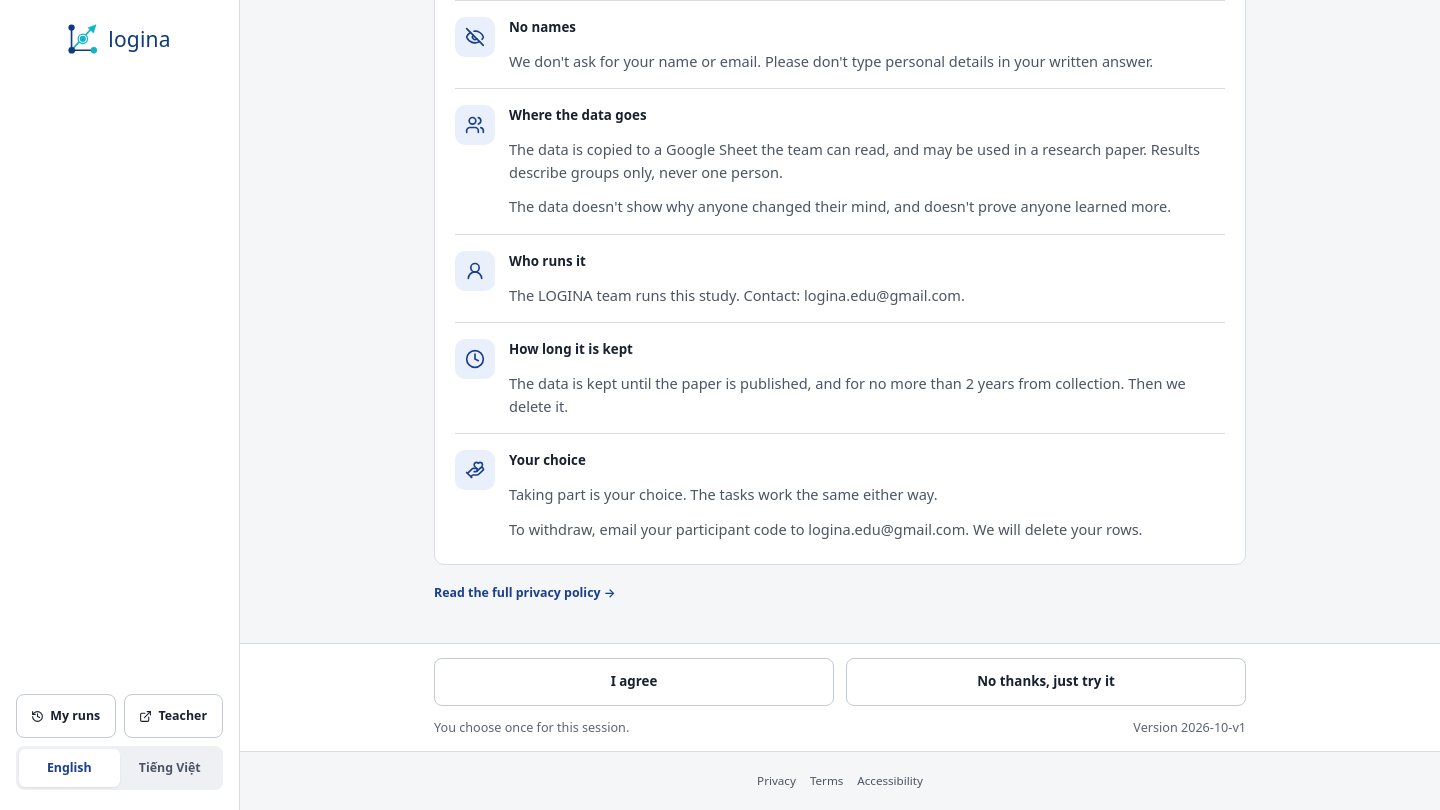
Test case: consent › agree sends the current version and shows the participant code
(page scrolled)
Step 1. Click the button "I agree" → (634, 682), box [434,658,834,706]
(page scrolled)
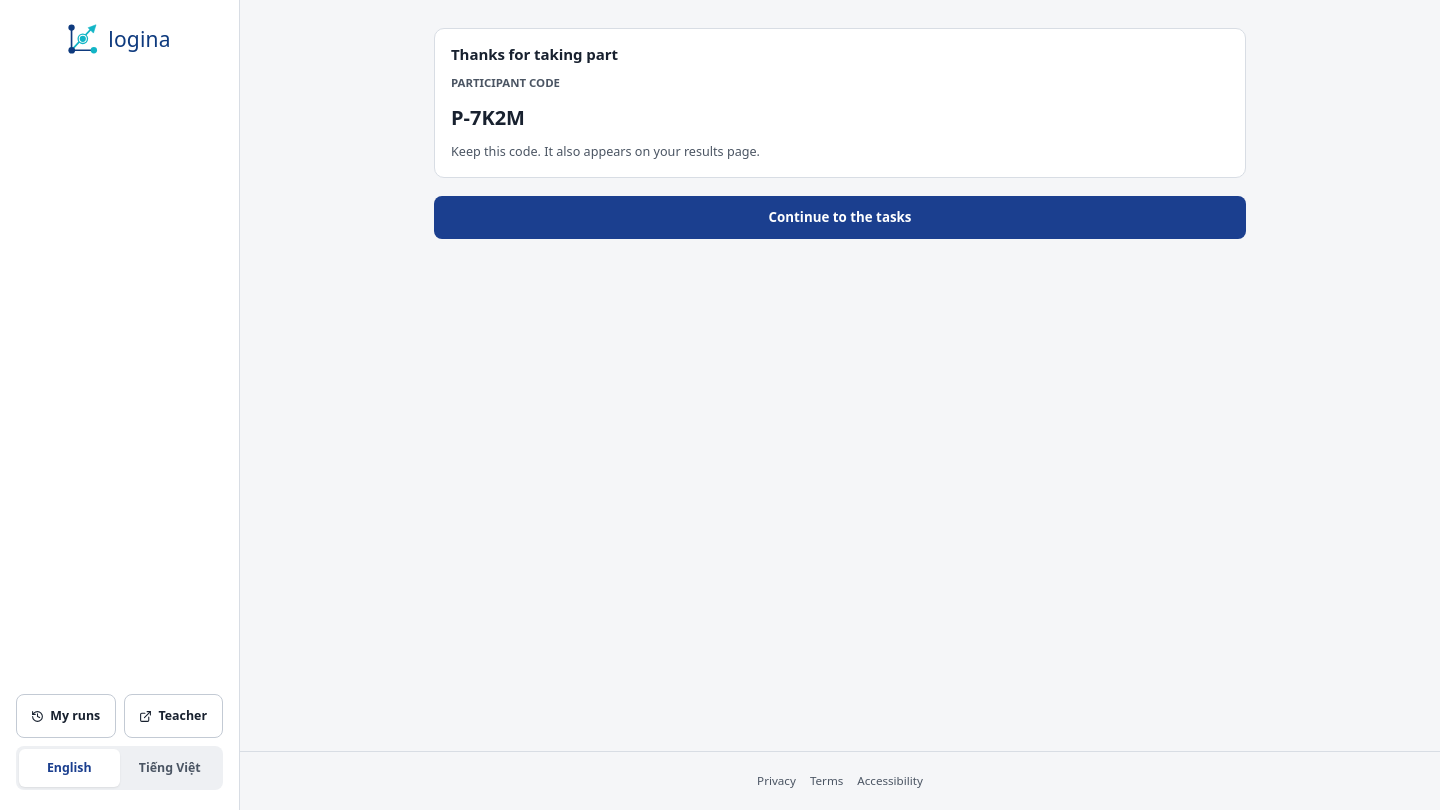
Expected: the text "P-7K2M" is shown, [451,104,525,131]
